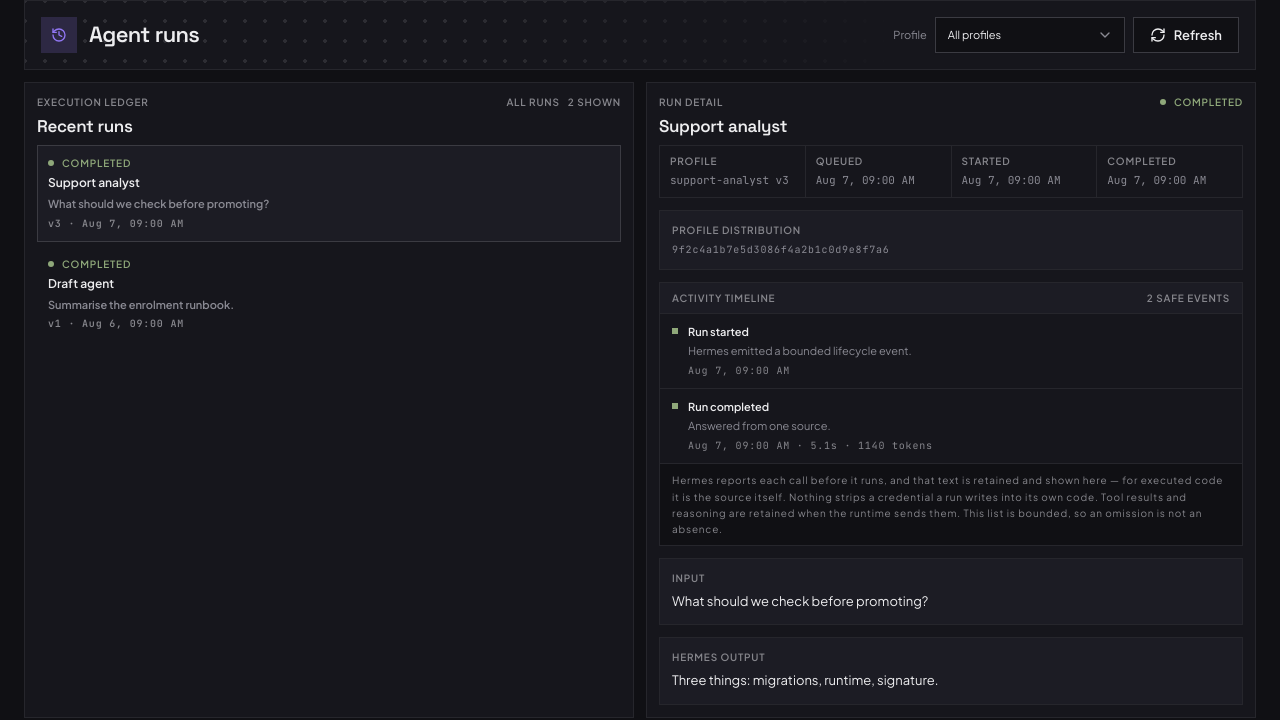
Test: agent runs › scopes the ledger to the Profile chosen in the filter
Expected: the element labelled "Execution ledger" is shown, [24,82,634,718]
Select "Support analyst" in the dropdown named "Filter by profile" at [1030, 35], box [935,17,1125,53]
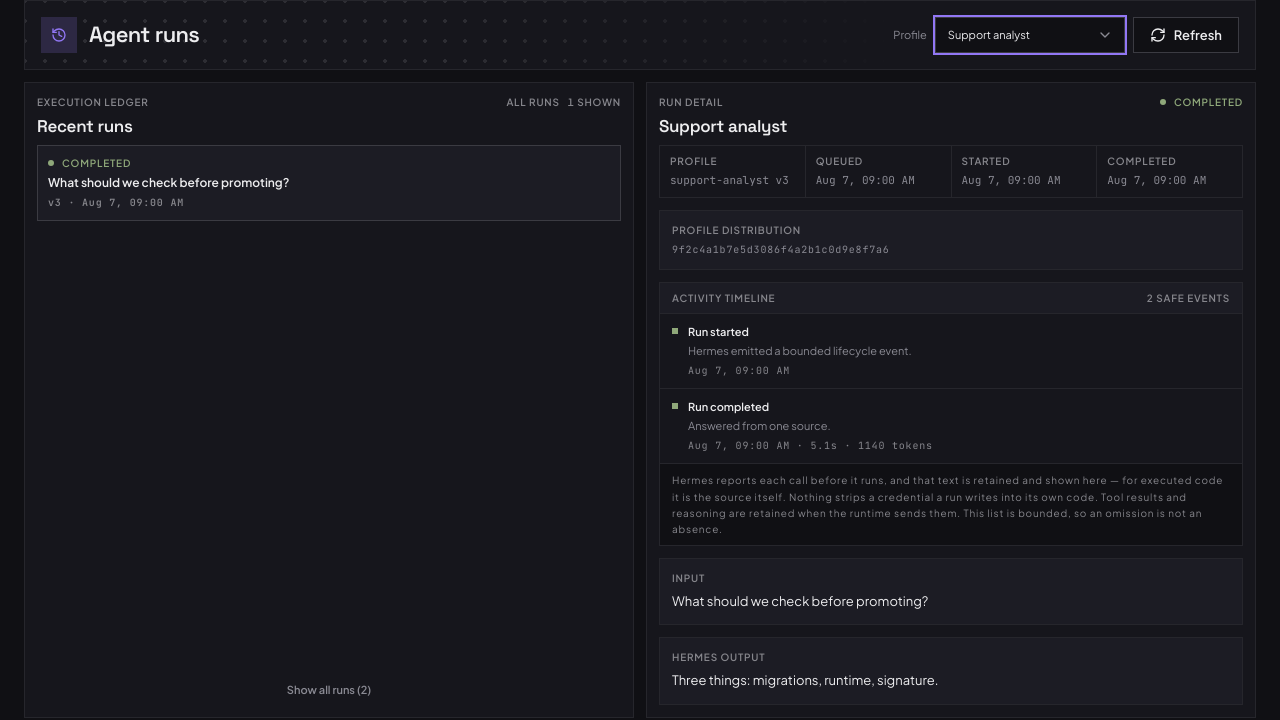
Expected: the button "Summarise the enrolment runbook." is gone
Expected: the text "What should we check before promoting?" below "Recent runs" is shown, [48,175,289,190]
